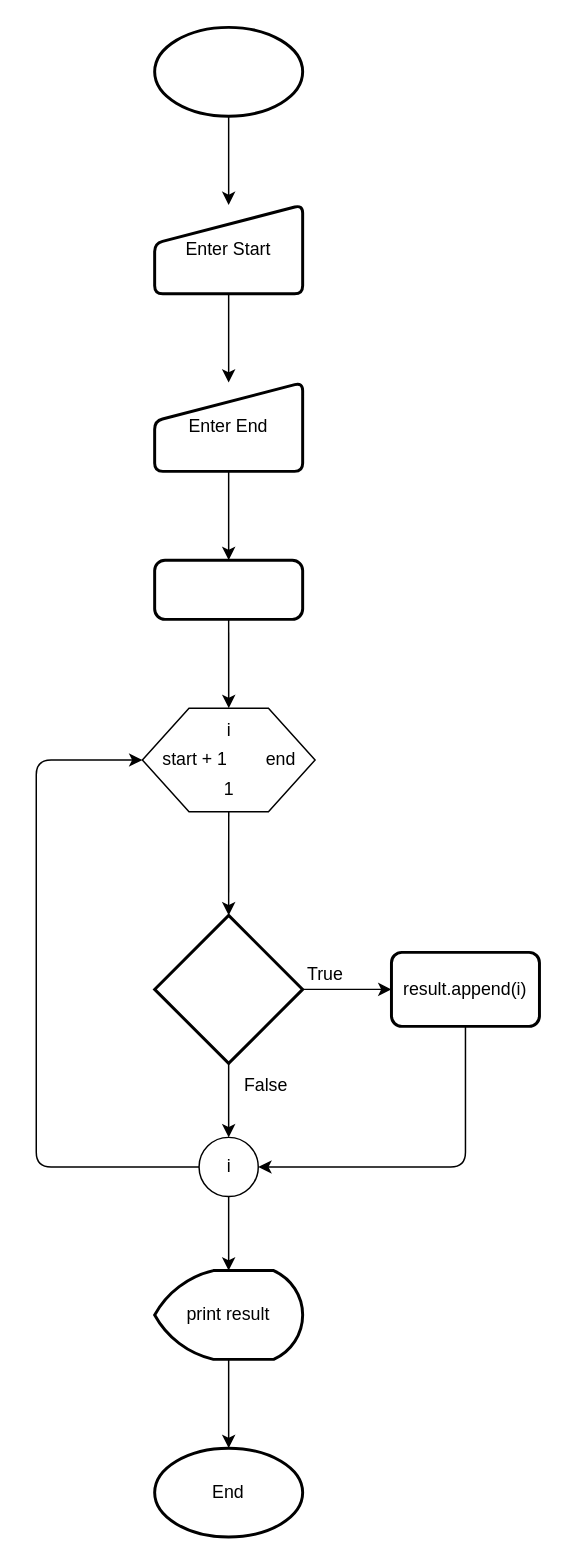
Some shapes in this 567 by 1563 pixel diagram are drawn without their labels. The shapes that lost their labels are listed below. From the top down, each one's centre as x and y in pixels, then its label:
At (x=227, y=71): "start".
At (x=227, y=589): "resuklt = [ ]".
At (x=227, y=988): "if i % 3 == 0".
